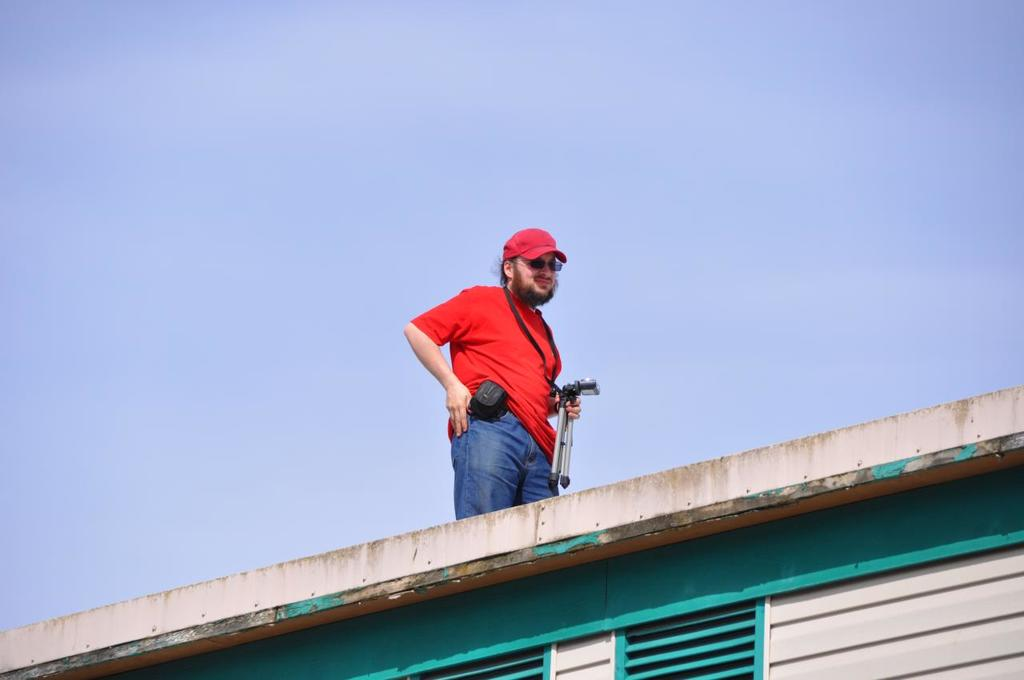person: (402, 227, 586, 521)
